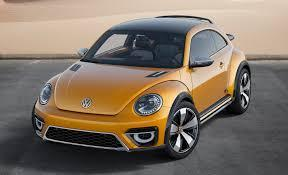volkswagen: (77, 94, 95, 114)
